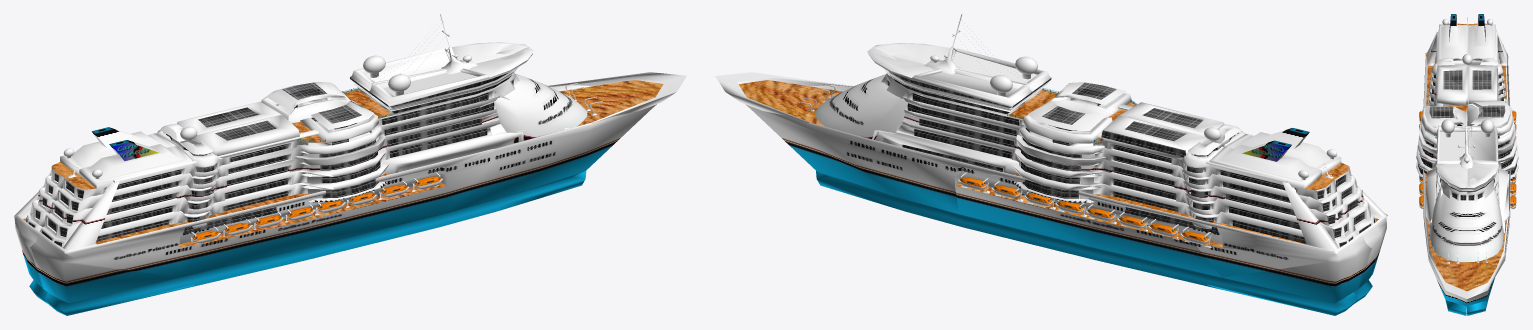
File: Caribean Princess.obj
3 views of the same model, side by side, from view 1: azimuth 30°, elevation 25°; view 2: azimuth 150°, elevation 25°; view 3: azimuth 270°, elevation 25° (orthographic). The views are drawn at different scales.
Parts seen in each view (by area): view 1: mesh01, object 2; view 2: mesh01, object 2; view 3: mesh01, object 2.
Part boxes in pixels (bbox=[...]): mesh01: bbox=[14, 14, 686, 315]; object 2: bbox=[23, 74, 663, 247]; mesh01: bbox=[715, 14, 1387, 315]; object 2: bbox=[739, 74, 1378, 247]; mesh01: bbox=[1416, 14, 1518, 315]; object 2: bbox=[1425, 16, 1507, 291].
Bounding box in the file's own units: 667 × 189 × 115.
